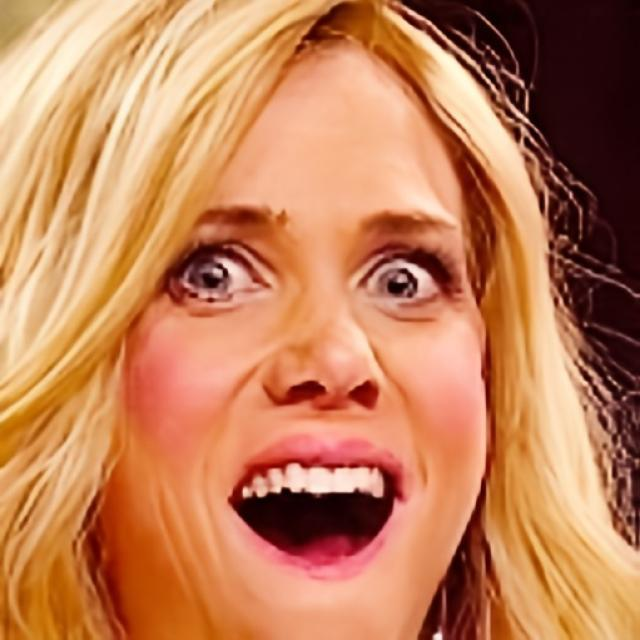surprise: (98, 24, 486, 640)
